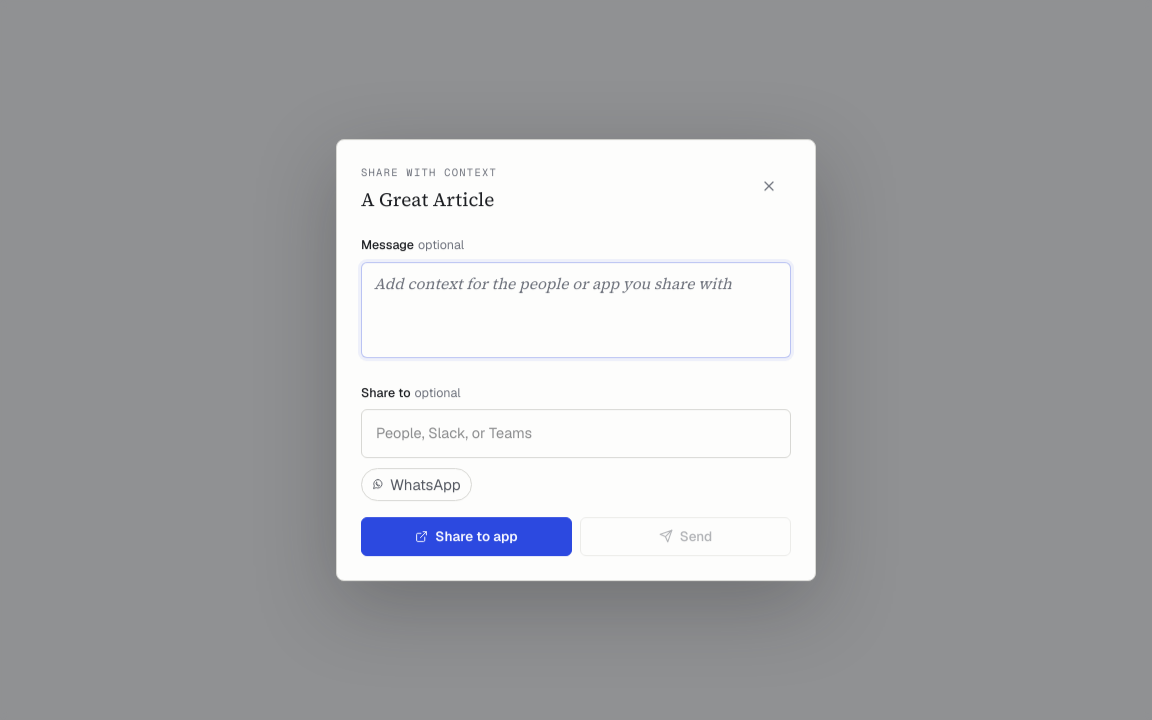
<ShareModal> external targets › shows the native share error and allows a retry
The width and height of the screenshot is (1152, 720).
Click the button "Share to app".
click(466, 536)  # box [361,517,572,556]
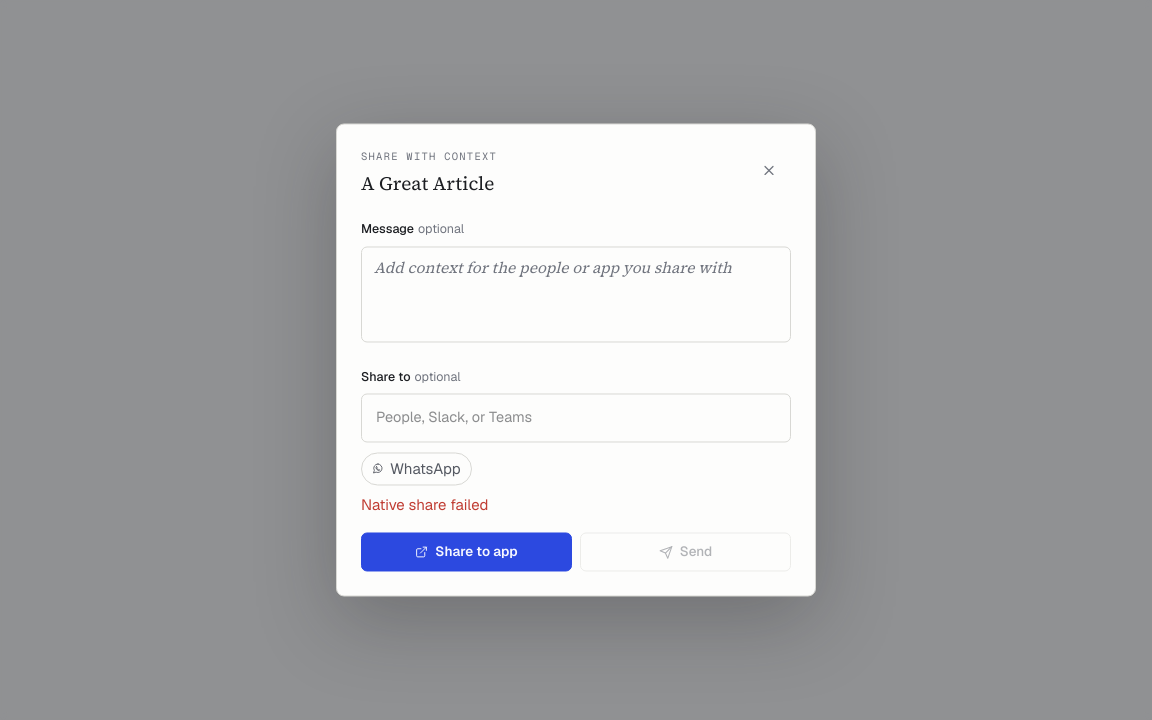
expect the button "Share to app" is enabled: met, box [361,533,572,572]
expect the text "Native share failed" is shown: met, box [361,495,488,514]
